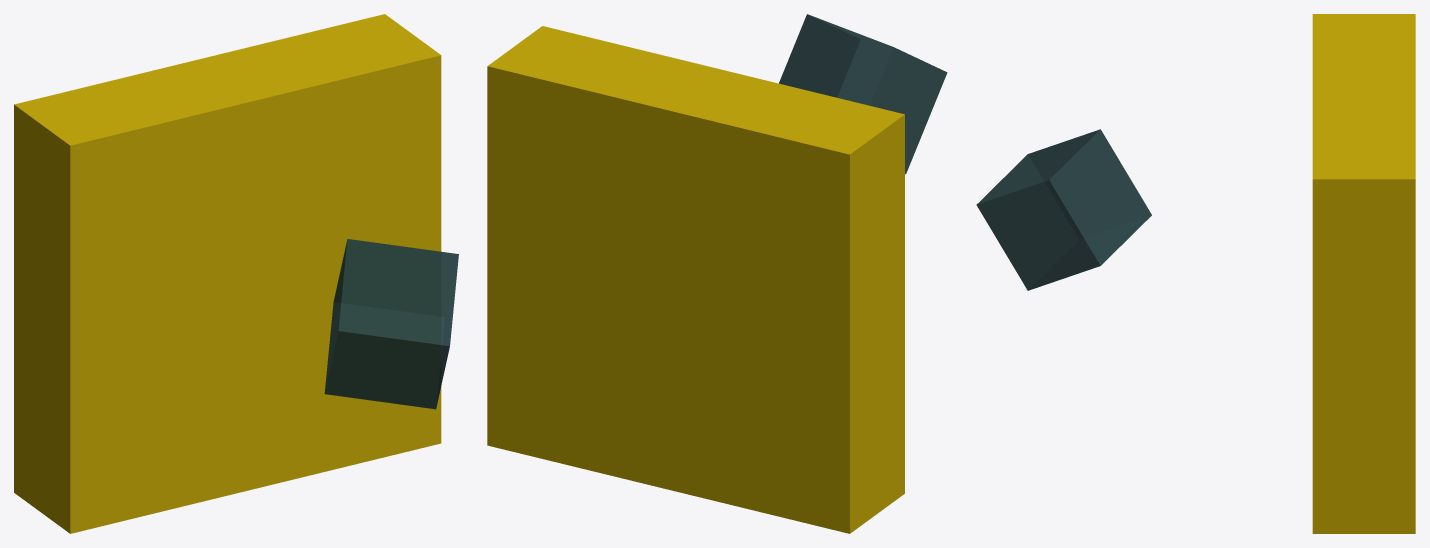
File: boxes.dae
3 views of the same model, side by side, from view 1: azimuth 30°, elevation 25°; view 2: azimuth 150°, elevation 25°; view 3: azimuth 270°, elevation 25° (orthographic). The views are drawn at different scales.
Parts seen in each view (by area): view 1: pCube1, pCube2; view 2: pCube1, pCube2; view 3: pCube1, pCube2.
Boxes of the visible parts, x1,y1,x2,y2 form: pCube1: (14,14,441,533); pCube2: (324,239,458,409); pCube1: (487,26,904,533); pCube2: (779,14,947,174); pCube1: (1312,14,1415,533); pCube2: (976,129,1151,290).
Bounding box in the file's own units: 380 × 380 × 427.
